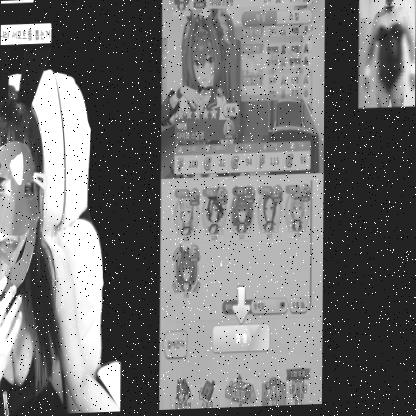streamer: (0, 43, 122, 416)
